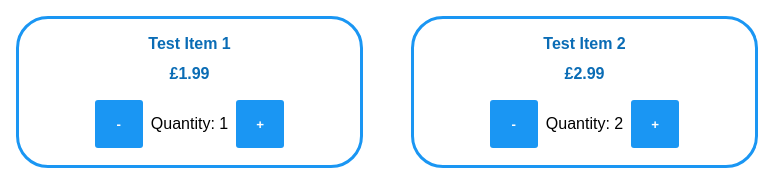
Scenario: Basket › Decreases item quantity correctly
Expected: the list item "Test Item 2 £2.99 - Quantity: 2 +" is shown, left=411, top=16, right=758, bottom=168
Step 1. Click the button "-" below "Test Item 2" → point(514, 124), box left=490, top=100, right=538, bottom=148
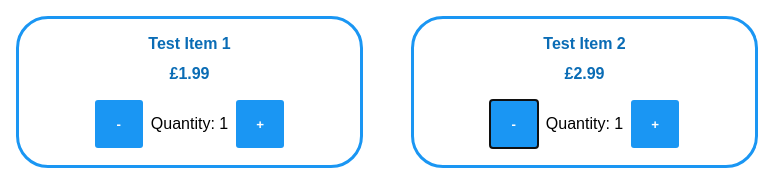
Now the list item "Test Item 2 £2.99 - Quantity: 1 +" is shown, box left=411, top=16, right=758, bottom=168
